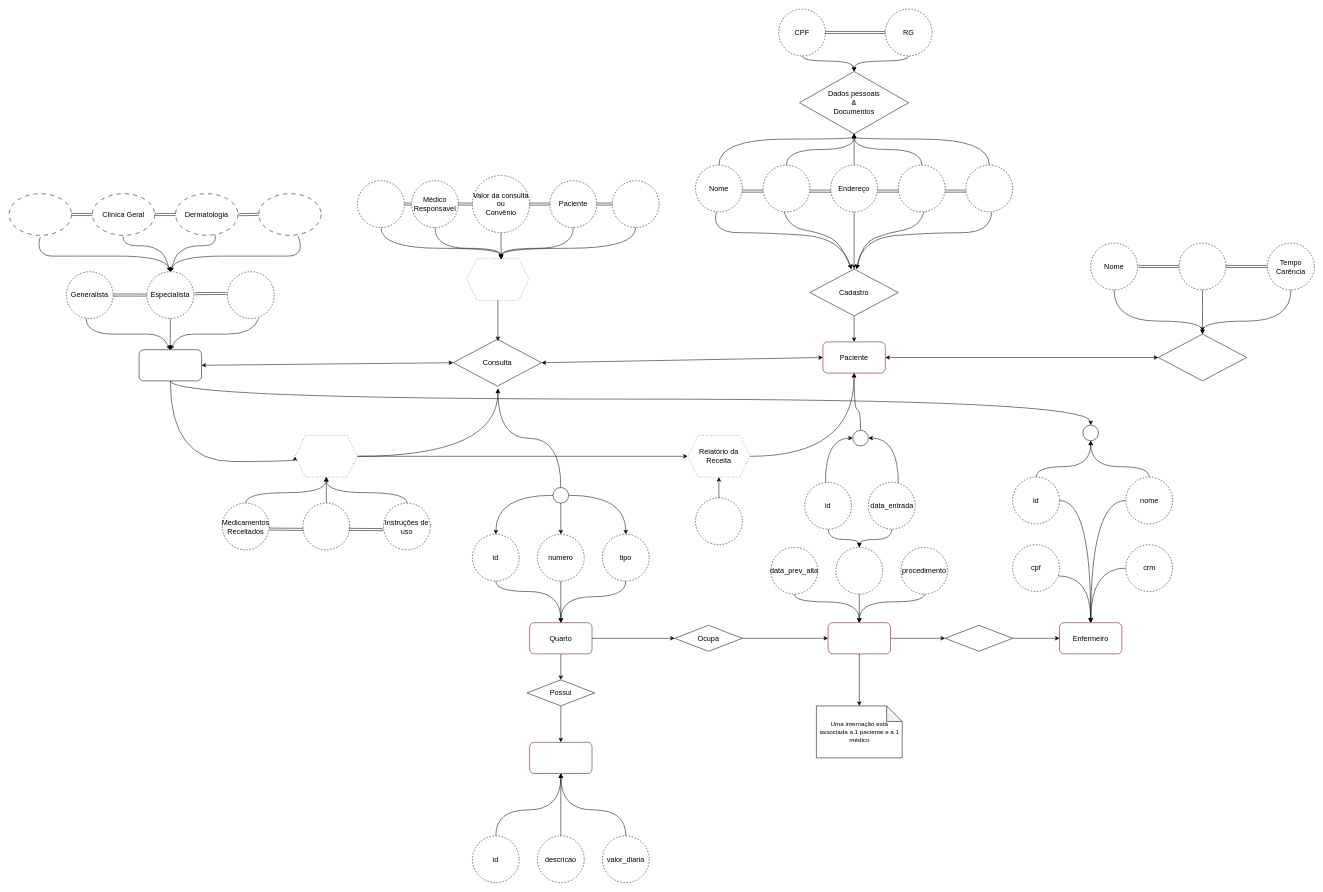
Some shapes in this 1323 by 892 pixel diagram are drawn without their labels. Here are the shapes that lost their labels. From the top down, the centre of each, then its label:
At point (380, 204): "Data & Hora".
At point (635, 204): "N° da carteiera".
At point (786, 188): "Data de Nascimento".
At point (921, 188): "Telefone".
At point (989, 188): "E-mail".
At point (40, 214): "Pediatria".
At point (289, 214): "Gastroenterologia".
At point (497, 279): "Planilhas".
At point (1202, 266): "CNPJ".
At point (250, 294): "Residente".
At point (170, 365): "Médico".
At point (1202, 357): "Convênio".
At point (326, 456): "Receita do Médico".
At point (326, 526): "Quantidade".
At point (718, 521): "Via internet".
At point (859, 570): "data_alta".
At point (859, 638): "Internação".
At point (979, 638): "Requer".
At point (560, 758): "TipoQuarto".
